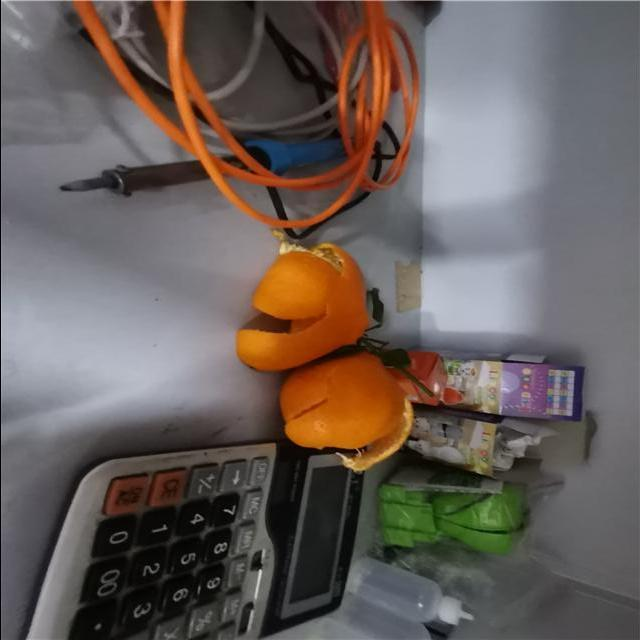orange peel: (235, 244, 368, 374), (278, 348, 414, 472)
